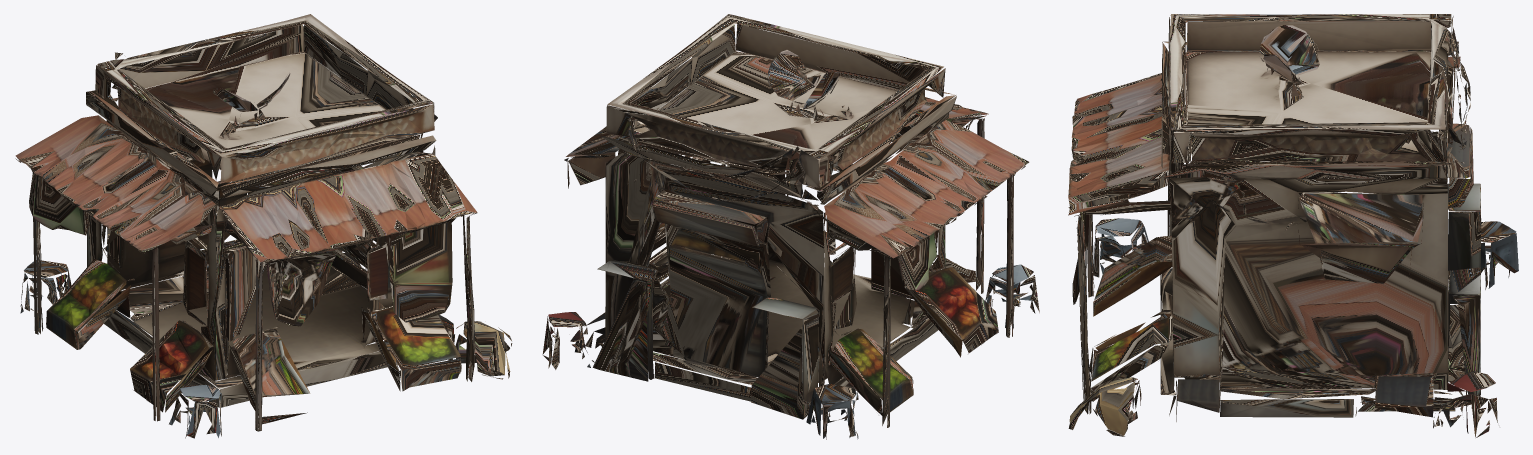
File: dukkan_shop.glb
3 views of the same model, side by side, from view 1: azimuth 30°, elevation 25°; view 2: azimuth 150°, elevation 25°; view 3: azimuth 270°, elevation 25° (orthographic). The views are drawn at different scales.
Visible parts, largest first — view 1: world; view 2: world; view 3: world.
Boxes of the visible parts, x1=… form: world: x1=15, y1=14, x2=512, y2=438; world: x1=542, y1=14, x2=1039, y2=439; world: x1=1068, y1=14, x2=1518, y2=437.
Bounding box in the file's own units: 0.9947 × 0.7487 × 0.9921.
Materials: 1 (1 with a texture image).
